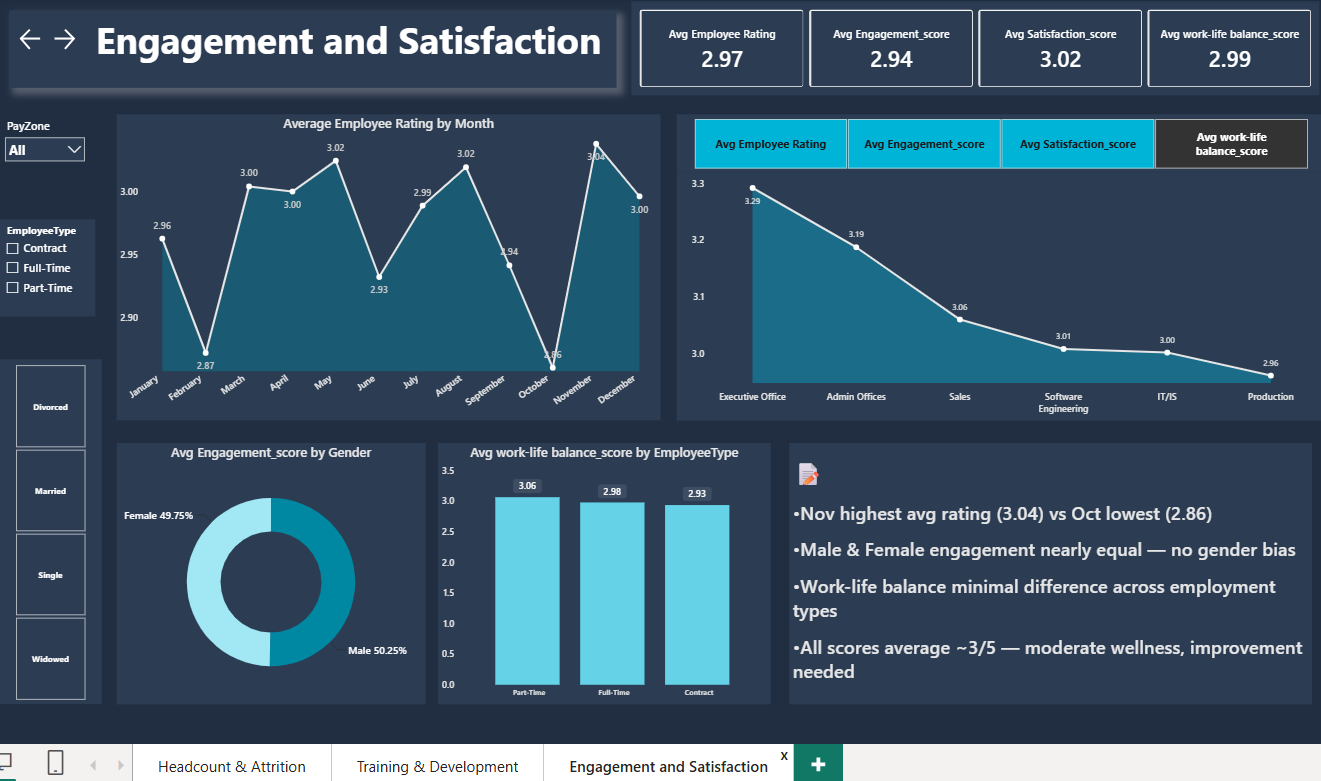

What the dashboard file says about the page in this screenshot:
{"tool":"powerbi","page":{"name":"Engagement and Satisfaction","canvas":[1920,1080],"ordinal":2},"visuals":[{"type":"cardVisual","fields":{"Data":["Measures (2).Avg Employee Rating","Measures (2).Avg Engagement_score","Measures (2).Avg Satisfaction_score","Measures (2).Avg work-life balance_score"]},"box":[912.1,0,1008,146.6],"z":0},{"type":"textbox","box":[16.3,18.1,879.5,112.2],"z":1000},{"type":"slicer","fields":{"Values":["Parameter.Parameter"]},"box":[982.6,168.3,937.4,85.1],"z":2000},{"type":"lineChart","fields":{"Y":["Measures (2).Avg work-life balance_score"],"Category":["HR data.DepartmentType"]},"box":[982.6,253.4,937.4,358.3],"z":3000},{"type":"lineChart","title":"Average Employee Rating by Month","fields":{"Category":["HR data.Survey Date.Variation.Date Hierarchy.Year","HR data.Survey Date.Variation.Date Hierarchy.Quarter","HR data.Survey Date.Variation.Date Hierarchy.Month","HR data.Survey Date.Variation.Date Hierarchy.Day"],"Y":["Avg(HR data.Current Employee Rating)"]},"box":[171.9,168.3,787.2,443.4],"z":3001},{"type":"donutChart","title":"Avg Engagement_score by Gender","fields":{"Category":["HR data.GenderCode"],"Y":["Measures (2).Avg Engagement_score"]},"box":[171.9,644.2,447,378.2],"z":3002},{"type":"columnChart","fields":{"Category":["HR data.EmployeeType"],"Y":["Measures (2).Avg work-life balance_score"]},"box":[637,644.2,481.4,378.2],"z":3003},{"type":"slicer","fields":{"Values":["HR data.PayZone"]},"box":[0,168.3,135.7,85.1],"z":3004},{"type":"slicer","fields":{"Values":["HR data.EmployeeType"]},"box":[0,320.3,141.2,141.2],"z":3005},{"type":"slicer","fields":{"Values":["HR data.MaritalDesc"]},"box":[0,523,150.2,499.5],"z":3006},{"type":"textbox","box":[1145.5,644.2,756.4,378.2],"z":3007},{"type":"actionButton","box":[27.1,39.8,41.6,39.8],"z":3008},{"type":"actionButton","box":[76,39.8,47.1,39.8],"z":3009}]}

Visuals, with their boxes on the page's 1920x1080 design canvas (x1, y1, x2, y2). These are canvas units, not pixel positions in the 1321x781 screenshot, which may show the page scaled, cropped or inside an application window:
cardVisual - Measures (2).Avg Employee Rating x Measures (2).Avg Engagement_score: [912, 0, 1920, 147]
textbox: [16, 18, 896, 130]
slicer - Parameter.Parameter: [983, 168, 1920, 253]
lineChart - Measures (2).Avg work-life balance_score x HR data.DepartmentType: [983, 253, 1920, 612]
"Average Employee Rating by Month" lineChart: [172, 168, 959, 612]
"Avg Engagement_score by Gender" donutChart: [172, 644, 619, 1022]
columnChart - HR data.EmployeeType x Measures (2).Avg work-life balance_score: [637, 644, 1118, 1022]
slicer - HR data.PayZone: [0, 168, 136, 253]
slicer - HR data.EmployeeType: [0, 320, 141, 462]
slicer - HR data.MaritalDesc: [0, 523, 150, 1022]
textbox: [1146, 644, 1902, 1022]
actionButton: [27, 40, 69, 80]
actionButton: [76, 40, 123, 80]
